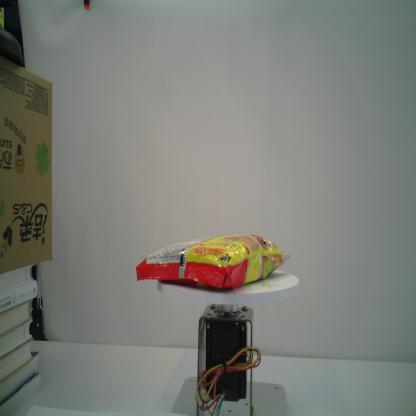Instant Noodles: (135, 232, 290, 290)
